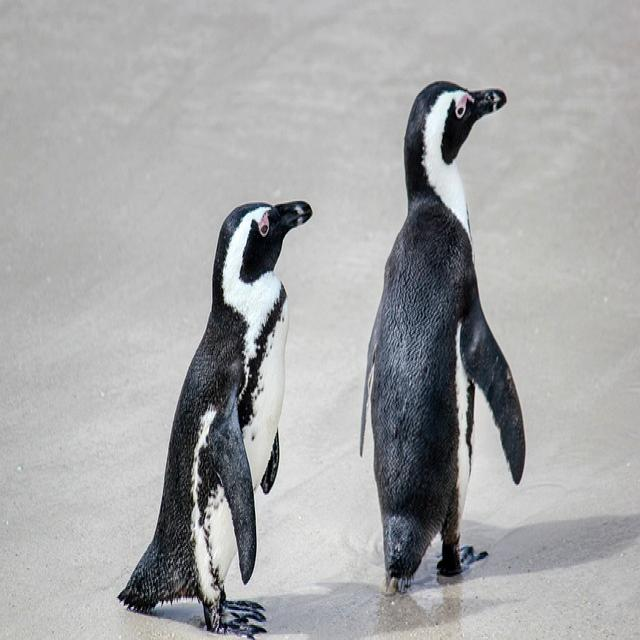Carnivorous: (117, 202, 313, 639), (364, 81, 527, 595)
